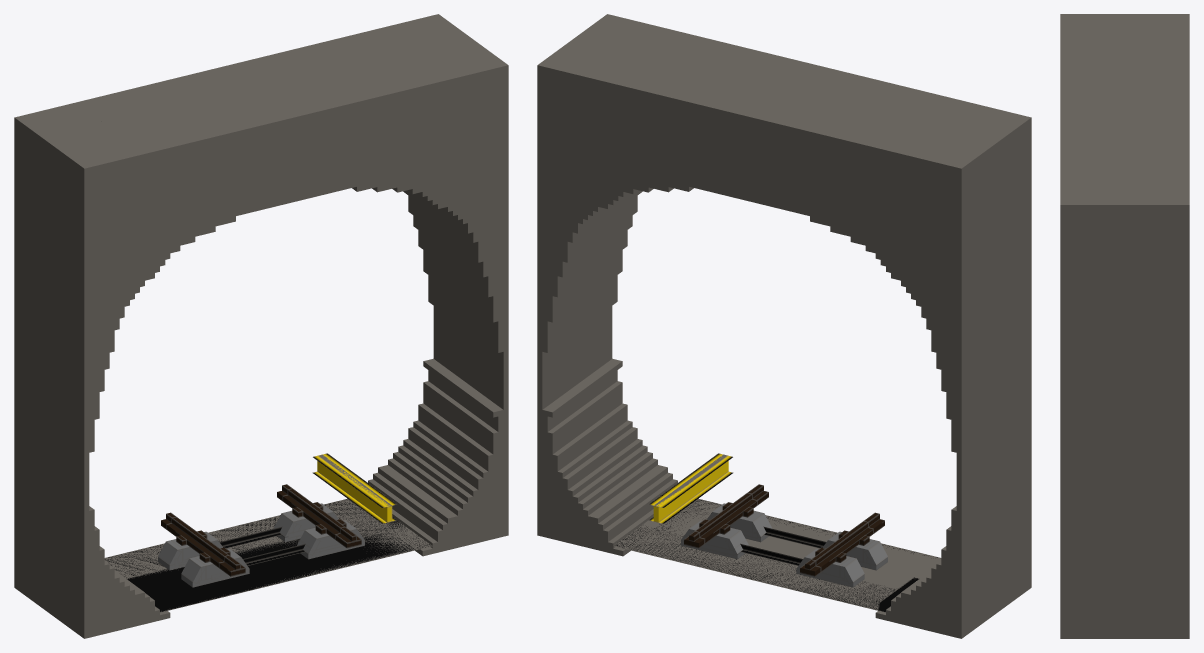
The model's file is athen-metro-rail-tunnel-2.obj.
3 renders of one model, left to right at view 1: azimuth 30°, elevation 25°; view 2: azimuth 150°, elevation 25°; view 3: azimuth 270°, elevation 25°, orthographic. The views are drawn at different scales.
Visible parts, largest first — view 1: cube; view 2: cube; view 3: cube.
Part boxes in pixels (x1,y1,x2,y2): cube: (14,14,508,638); cube: (537,14,1031,638); cube: (1060,14,1189,638).
Size of the model in its own units: 5.25 by 5.56 by 1.5.
Materials: 1 (1 with a texture image).
